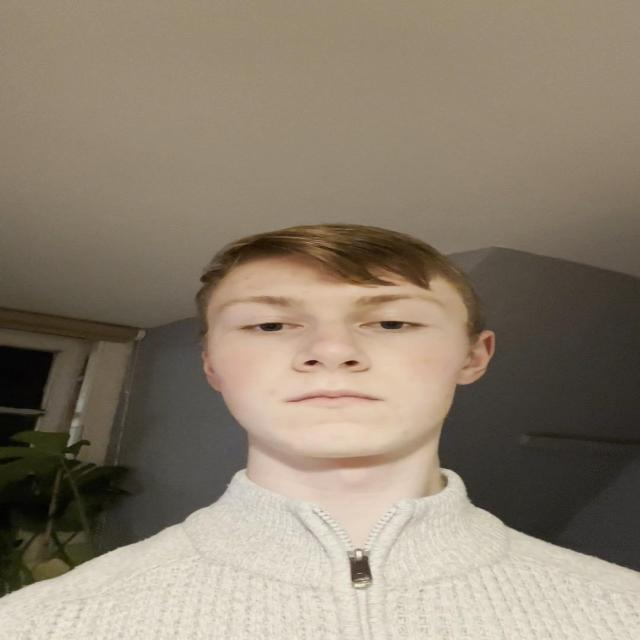no-helmet: (190, 225, 490, 492)
